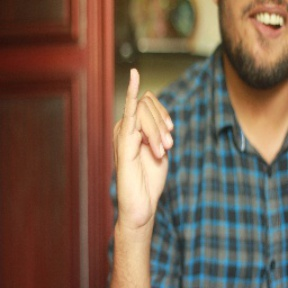I: (111, 68, 178, 230)
